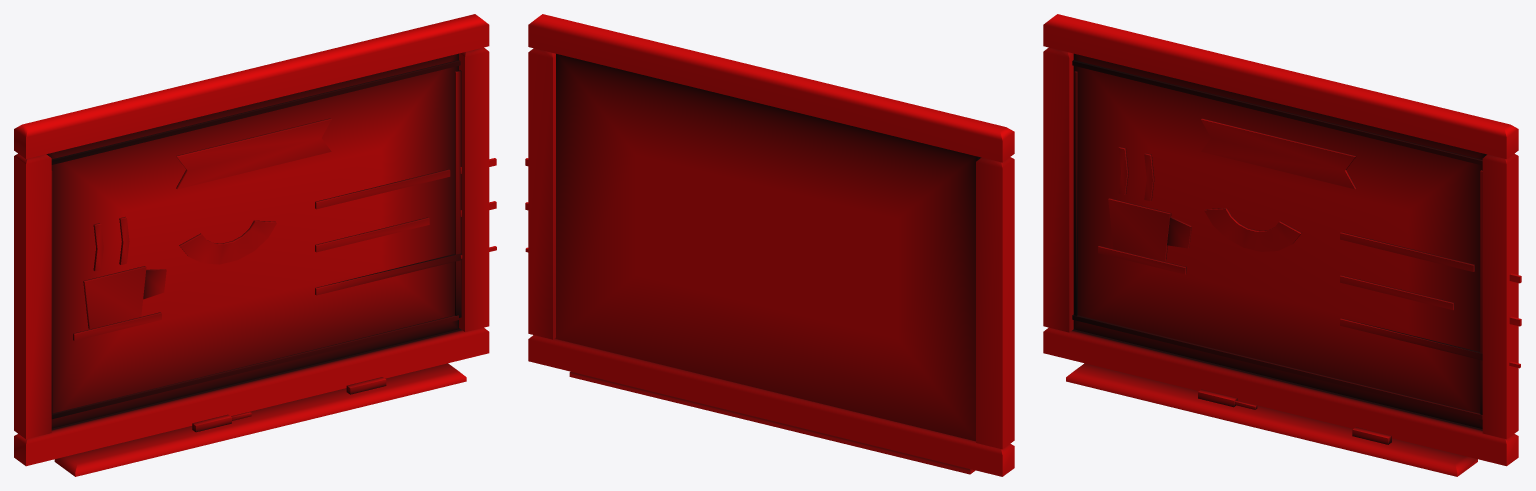
The model's file is CI_Cafe_MenuBoard_Wall.glb.
3 views of the same model, side by side, from view 1: azimuth 30°, elevation 25°; view 2: azimuth 150°, elevation 25°; view 3: azimuth 330°, elevation 25° (orthographic). The views are drawn at different scales.
Parts seen in each view (by area): view 1: CI_Cafe_MenuBoard_Wall; view 2: CI_Cafe_MenuBoard_Wall; view 3: CI_Cafe_MenuBoard_Wall.
Part boxes in pixels (x1,y1,x2,y2): CI_Cafe_MenuBoard_Wall: (14, 14, 496, 476); CI_Cafe_MenuBoard_Wall: (525, 14, 1014, 476); CI_Cafe_MenuBoard_Wall: (1043, 14, 1521, 476).
Bounding box in the file's own units: 0.92 × 0.638 × 0.085.
